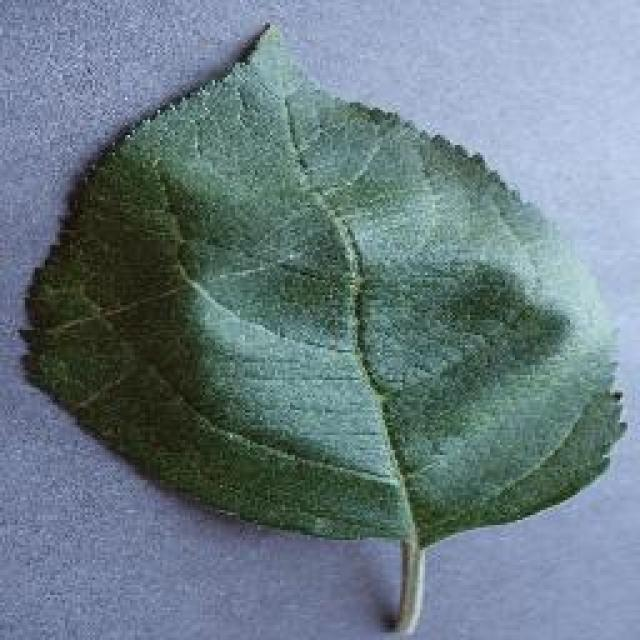apple healthy: (18, 17, 628, 635)
